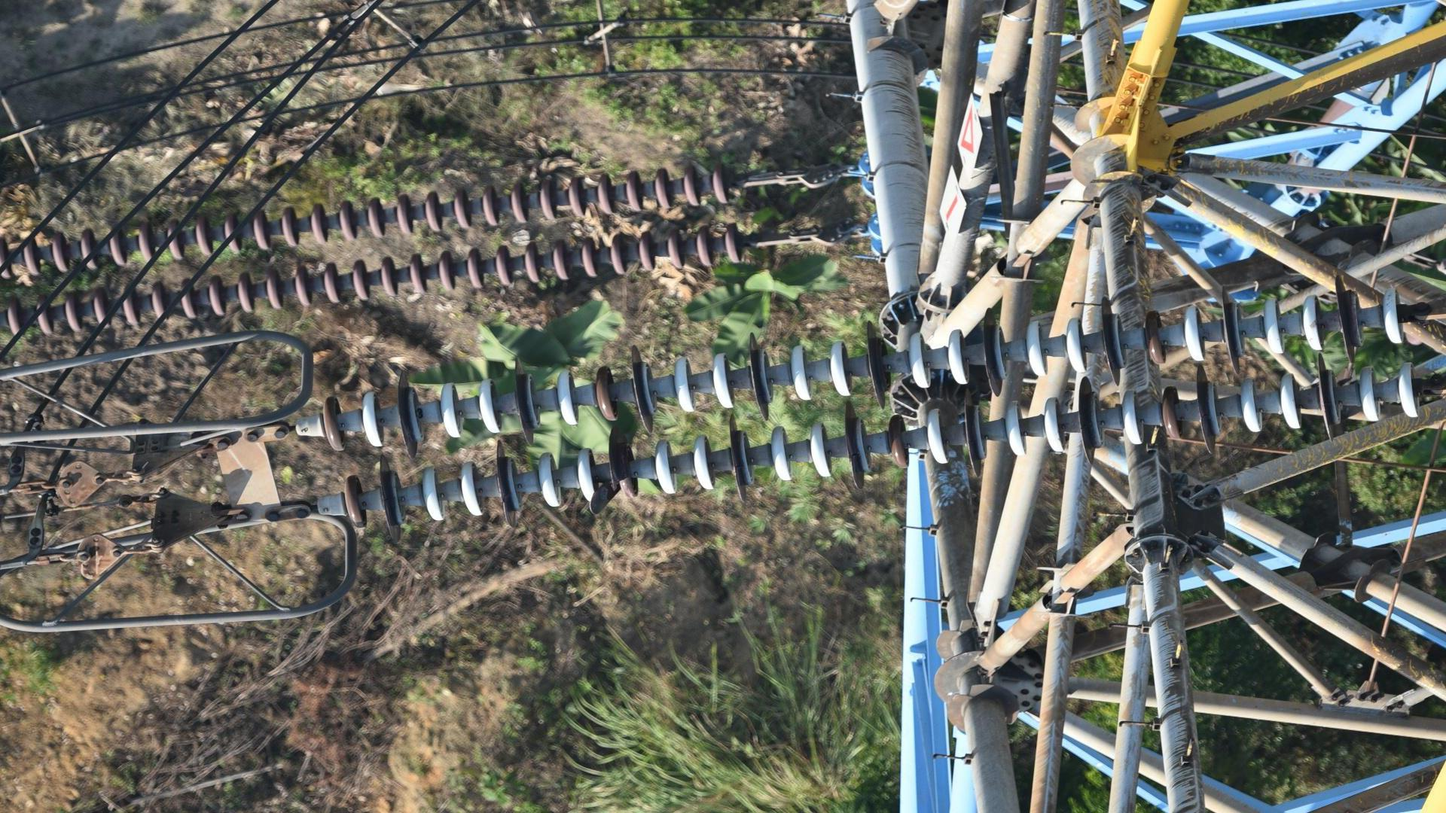insulator: (339, 348, 1434, 545), (313, 273, 1419, 462), (1, 157, 738, 289), (1, 218, 750, 347)
